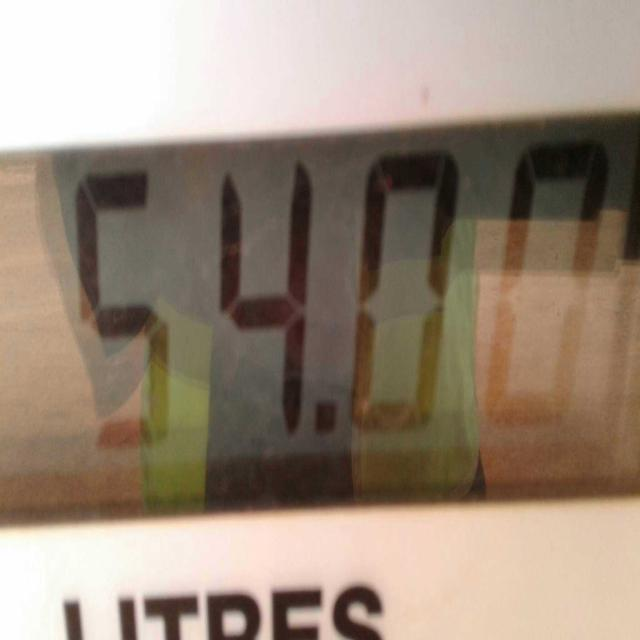.: (307, 375, 348, 452)
0: (342, 148, 472, 442), (481, 143, 605, 444)
4: (219, 159, 311, 432)
5: (72, 163, 189, 469)
